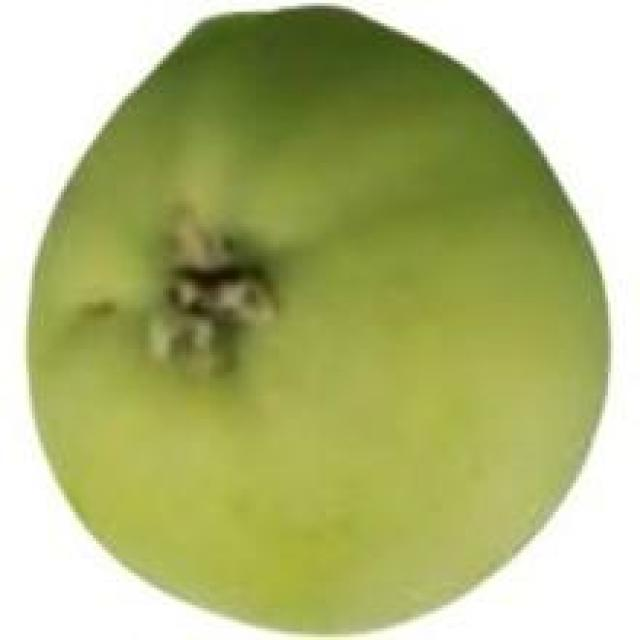Rotten Apple: (28, 0, 600, 640)
